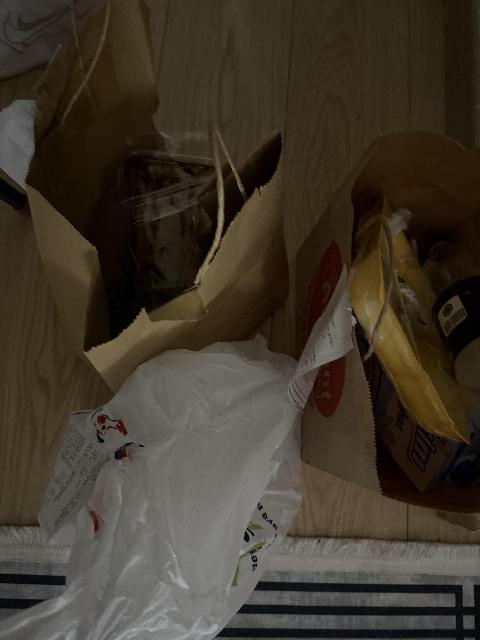Kagit: (34, 413, 102, 528), (294, 284, 362, 394)
Plastik: (105, 357, 306, 640)
